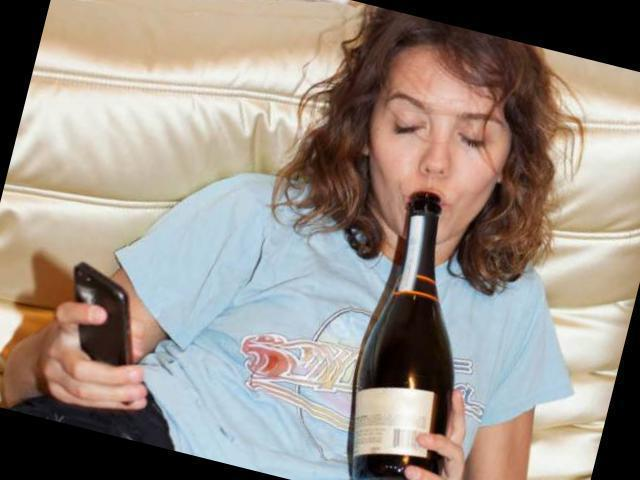Drunk: (373, 59, 509, 235)
